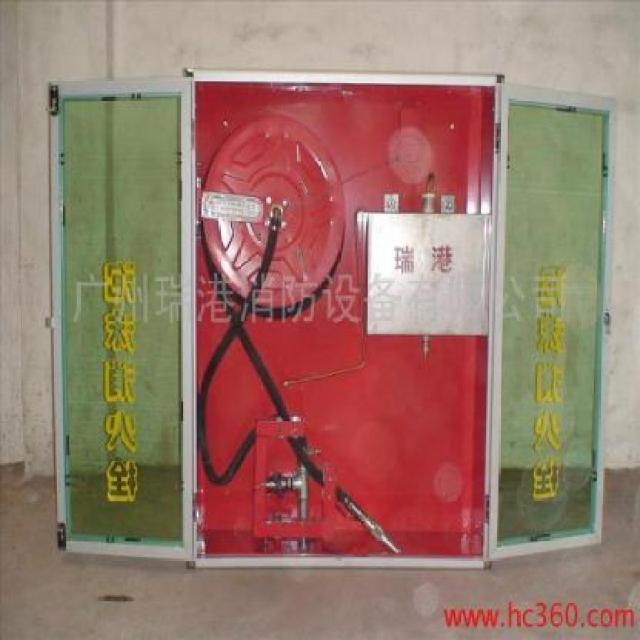firehydrant: (42, 61, 620, 577)
